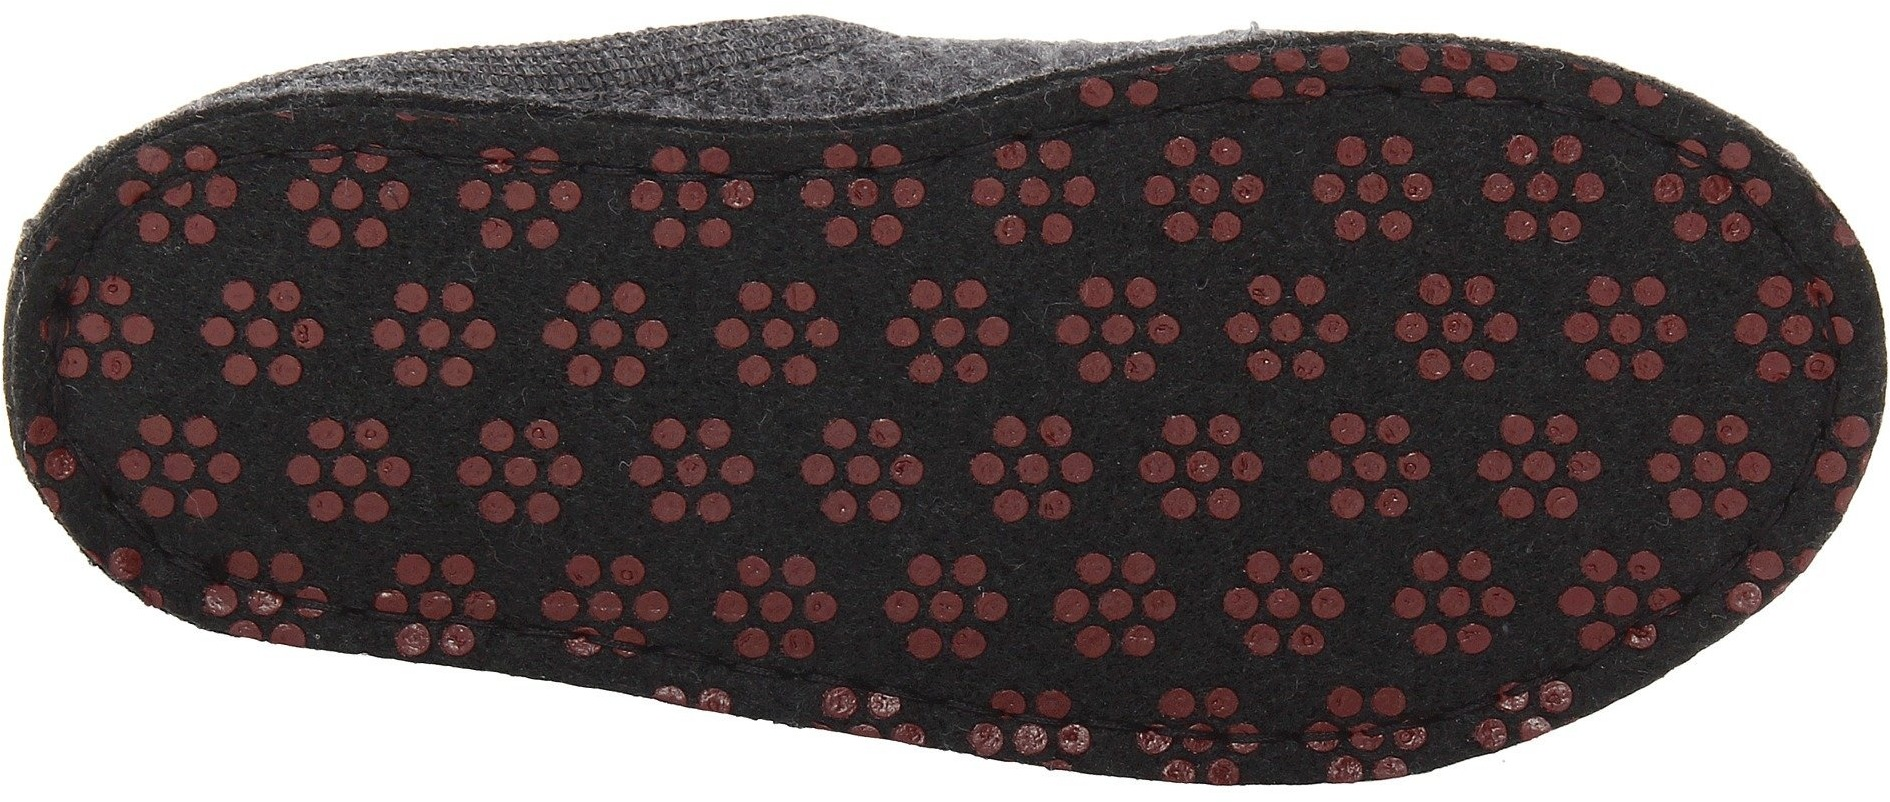circle: (770, 215, 1181, 603), (1472, 166, 1806, 513), (413, 200, 755, 523), (129, 210, 403, 519), (1202, 251, 1462, 517), (1278, 529, 1483, 743)
